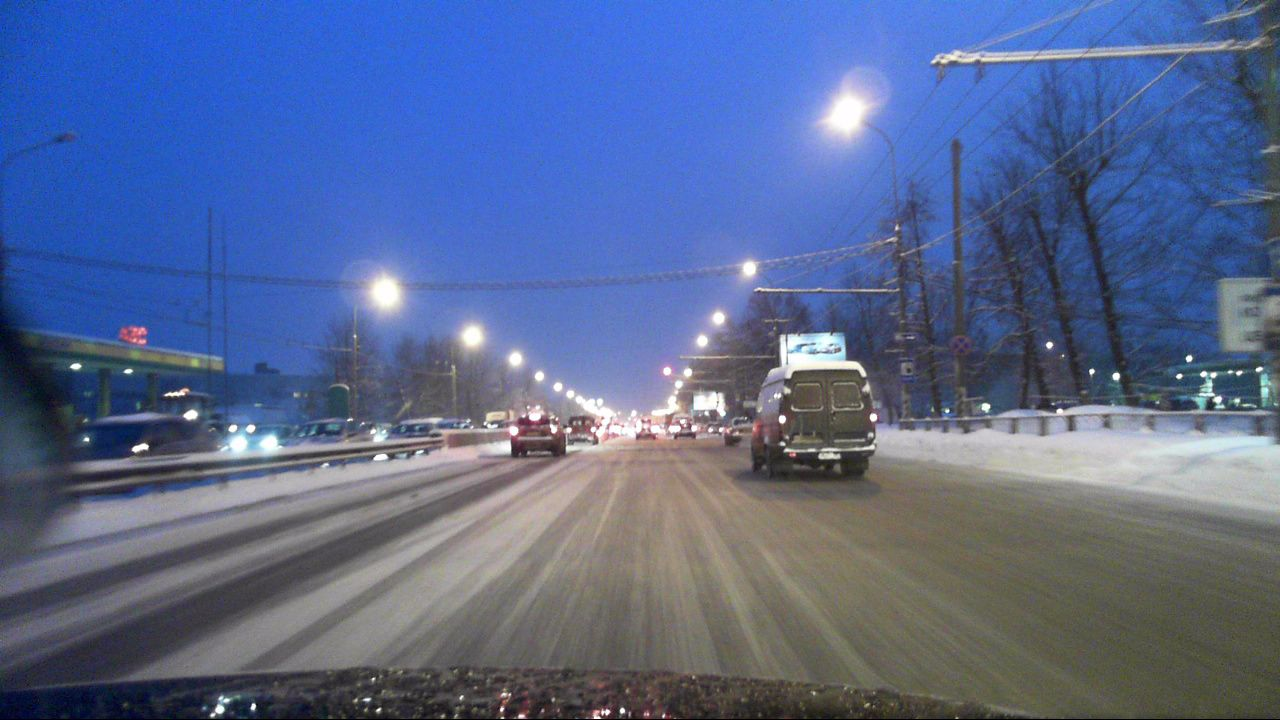No Parking: (948, 335, 970, 357)
